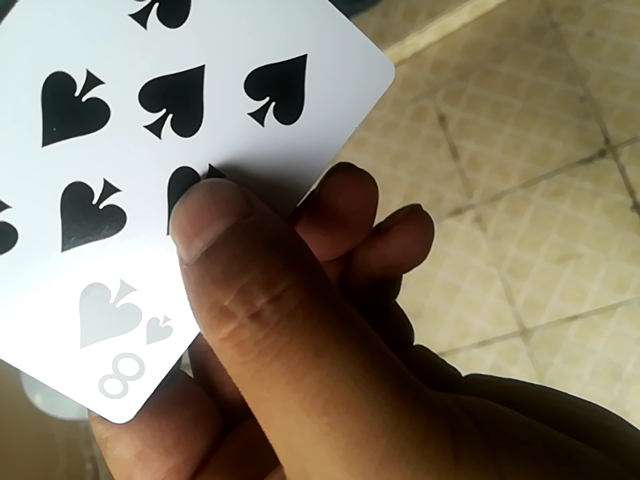ht 8: (3, 0, 385, 417)
